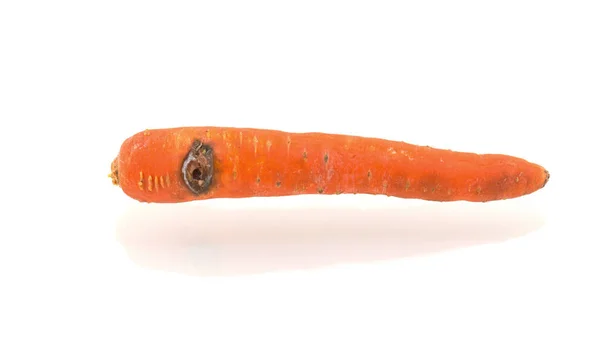rotten carrot: (73, 94, 580, 254)
